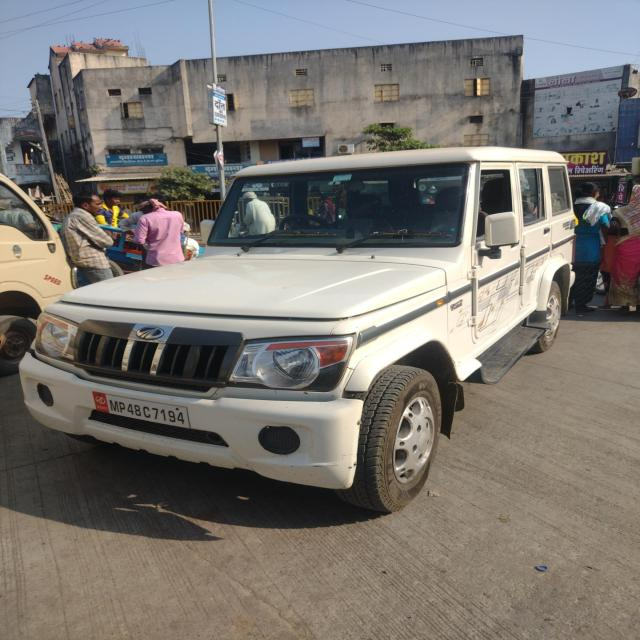light_vehicle: (19, 155, 581, 460)
